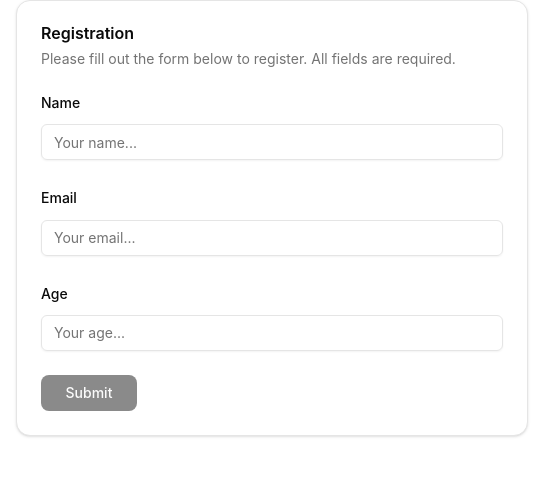
Test case: RegisterForm › form display and validation › shows error when email is not valid
Step 1. Type "invalid-email" into the field labelled "Email" → (272, 238), box [41, 220, 503, 256]
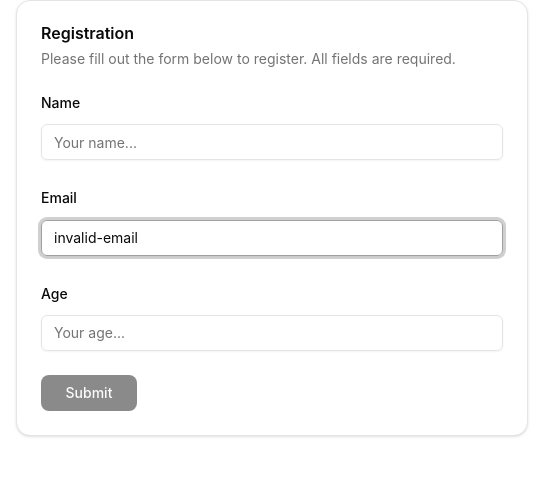
Step 2. Press Tab
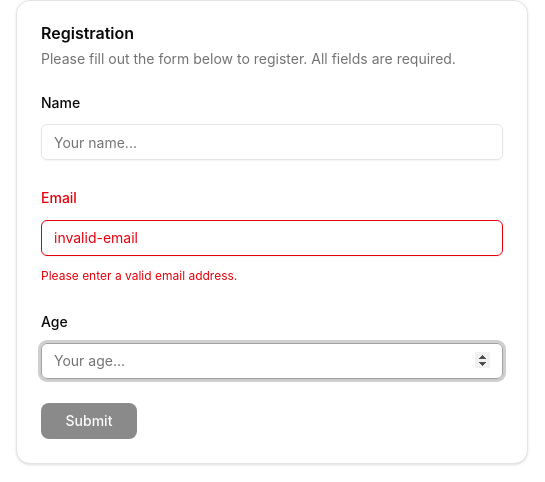
expect the text "Please enter a valid email address." is shown: met, box [41, 268, 237, 282]
